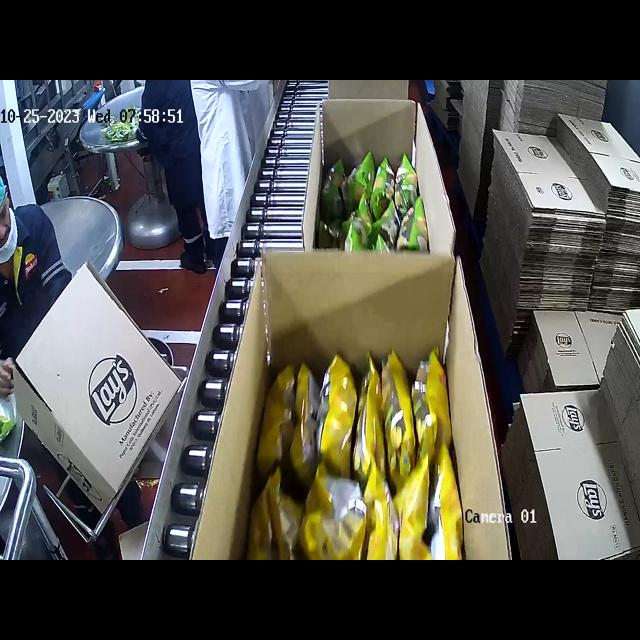salted: (277, 357, 430, 560)
yogurt: (326, 155, 427, 255)
